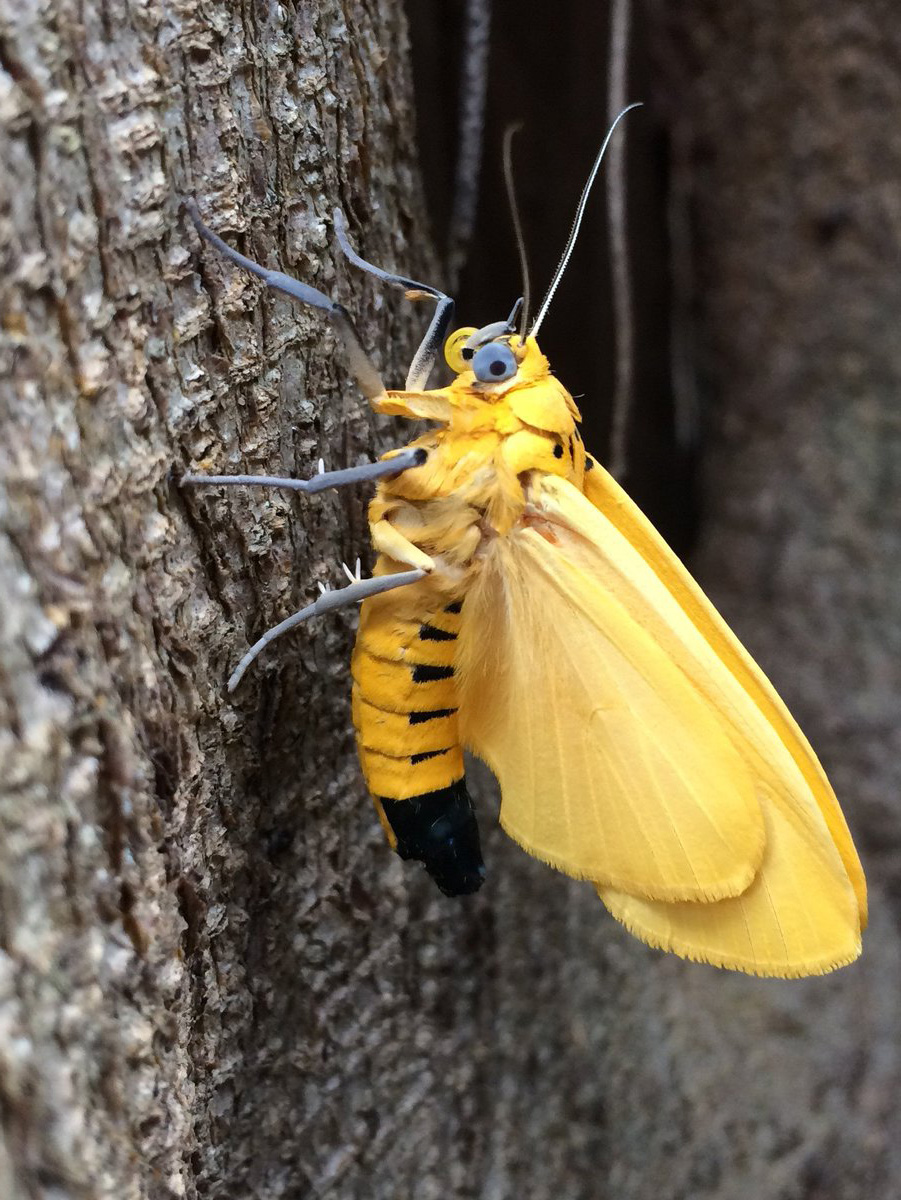Agape chloropyga: (176, 98, 876, 982)
moth: (174, 96, 874, 980)
